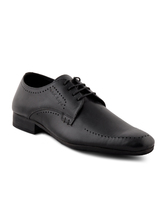shoes: (10, 71, 158, 162)
